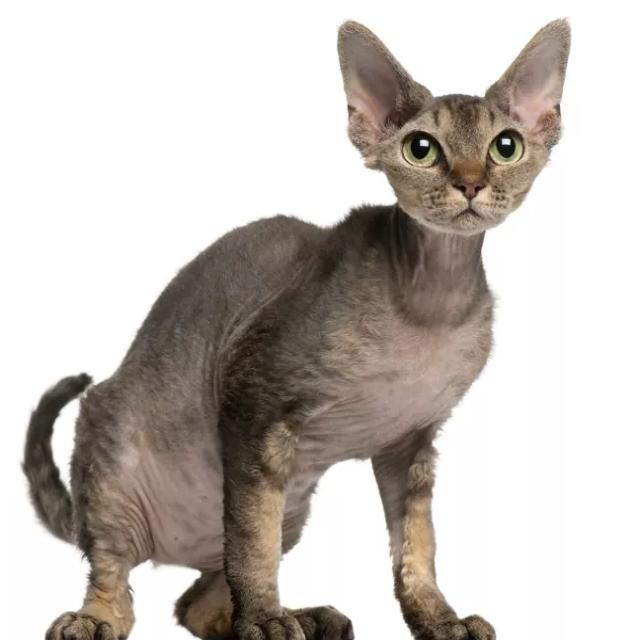Cornish Rex: (17, 13, 578, 640)
